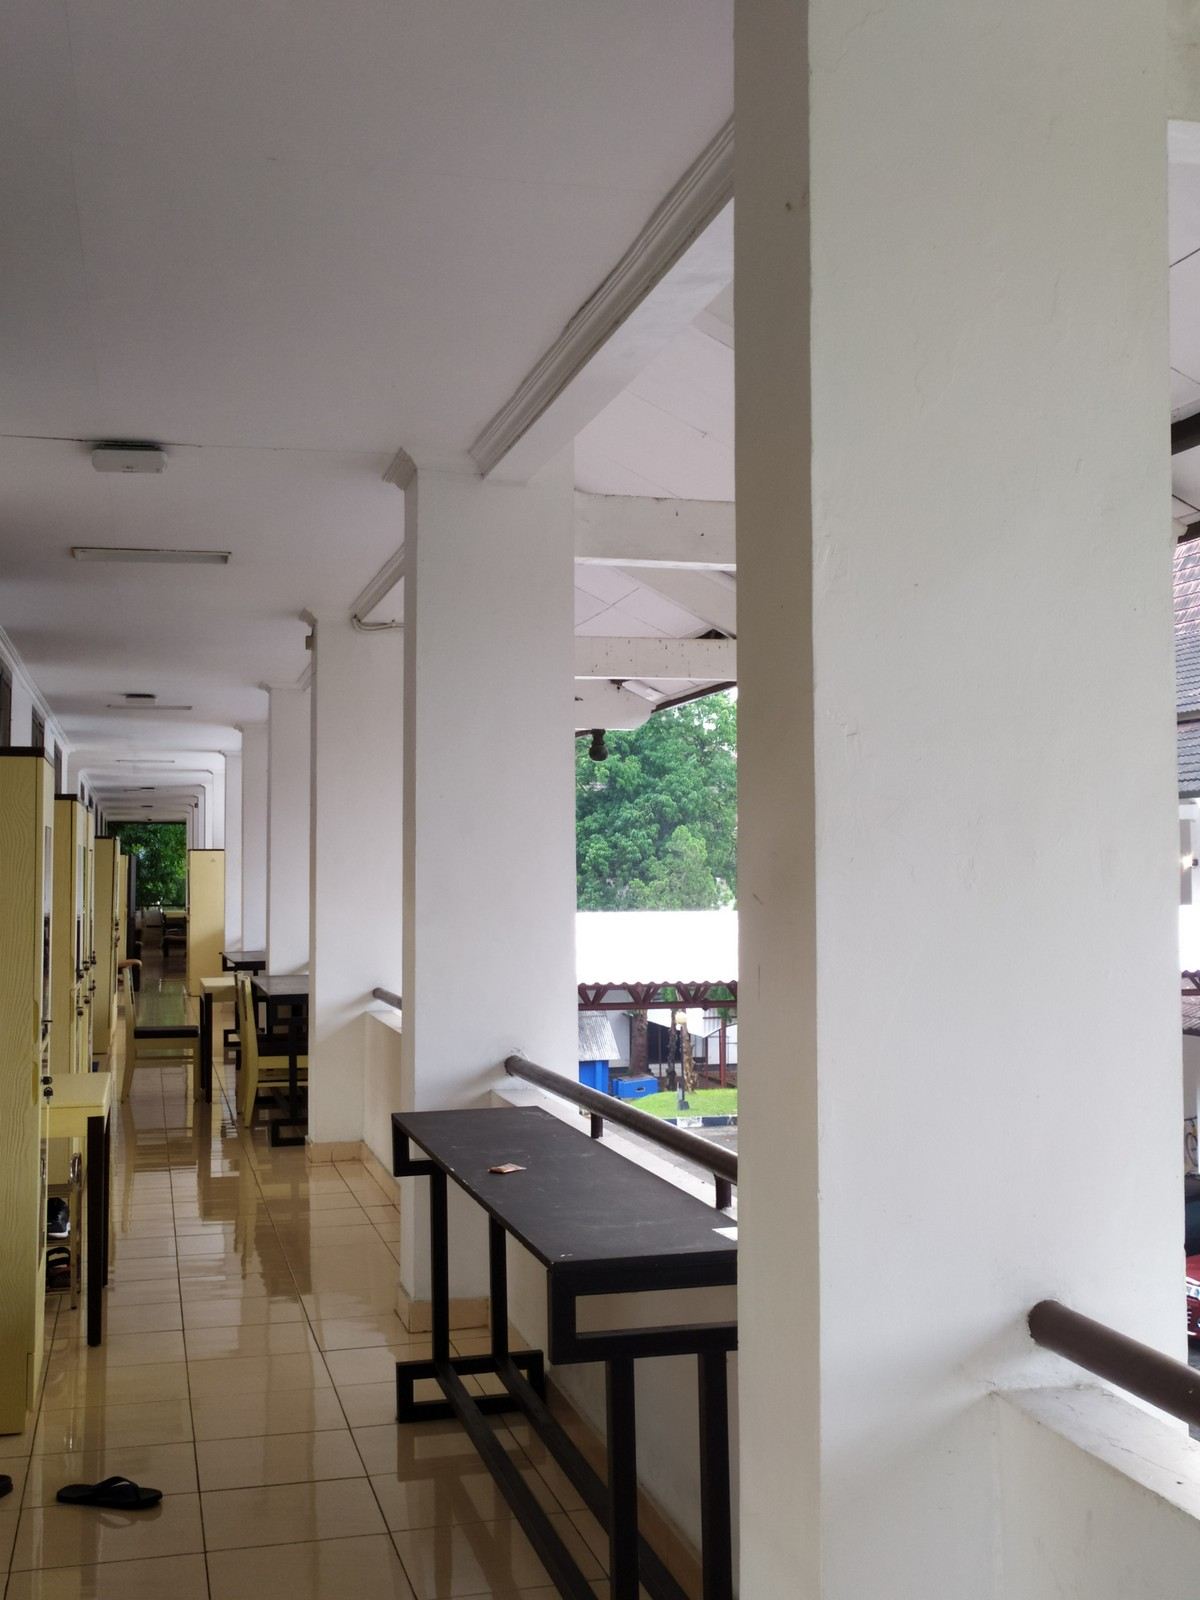concrete beam: (560, 486, 744, 577), (555, 631, 718, 687)
concrete column: (717, 20, 1196, 1567), (389, 446, 594, 1322), (297, 600, 406, 1157)
